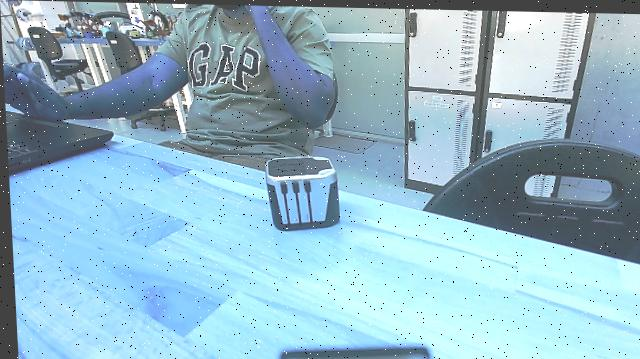adapter: (260, 151, 343, 237)
